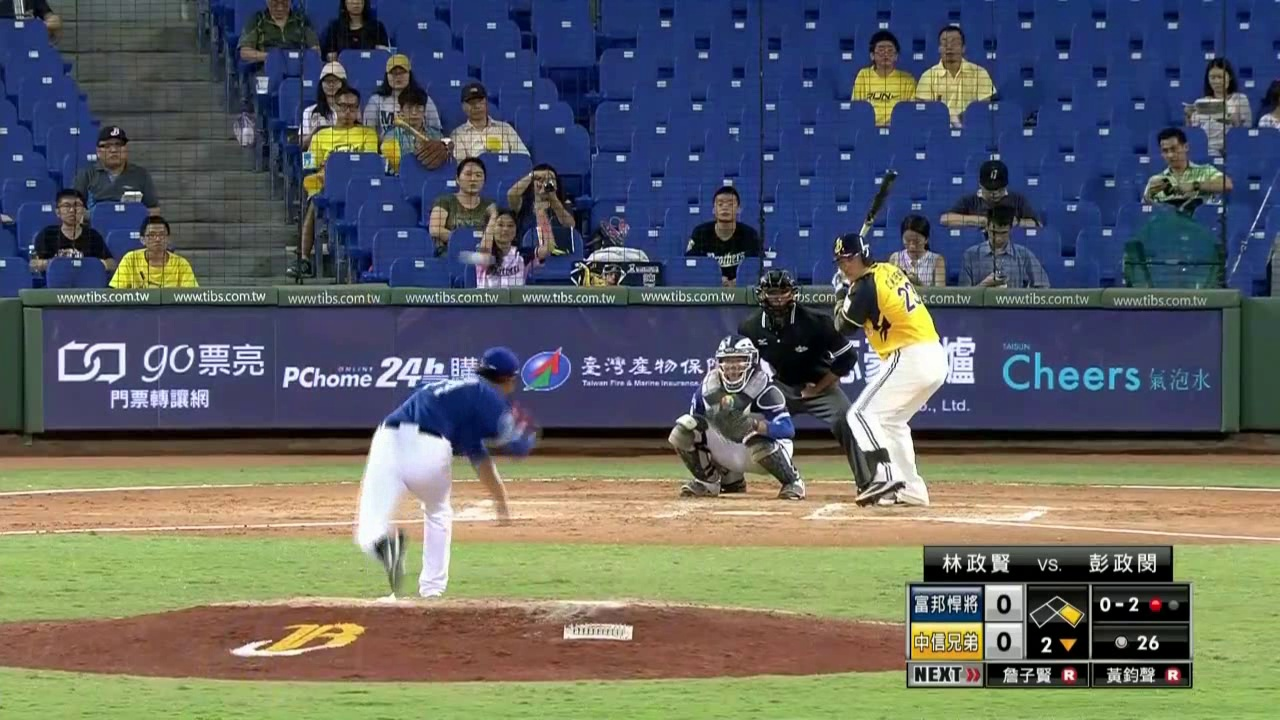ball: (468, 251, 485, 267)
base: (1026, 593, 1088, 629)
bat: (836, 165, 899, 278)
out: (1146, 589, 1185, 619)
score1: (986, 588, 1022, 620)
score2: (986, 622, 1020, 656)
session: (1029, 635, 1086, 657)
strikeball: (1092, 588, 1144, 618)
total: (1095, 628, 1186, 655)
